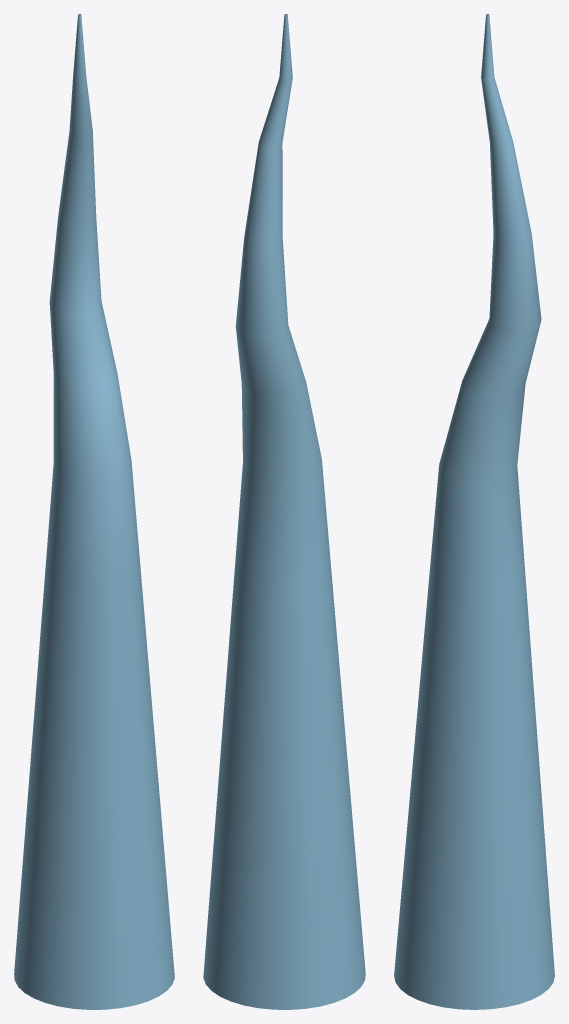
File: icicle.fbx
The picture shows the model from 3 angles, left to right: view 1: azimuth 30°, elevation 25°; view 2: azimuth 150°, elevation 25°; view 3: azimuth 270°, elevation 25°; orthographic projection.
Parts seen in each view (by area): view 1: Circle; view 2: Circle; view 3: Circle.
Part boxes in pixels (bbox=[...]): Circle: bbox=[14, 14, 174, 1009]; Circle: bbox=[203, 14, 365, 1009]; Circle: bbox=[394, 14, 554, 1009].
Size of the model in its own units: 20 by 131 by 20.
